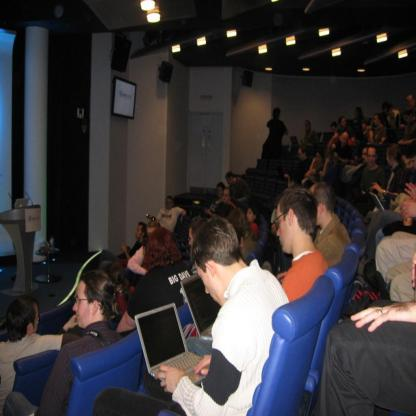board: (135, 302, 209, 384), (179, 271, 221, 342), (368, 190, 385, 211), (11, 198, 30, 210), (289, 134, 300, 144)
